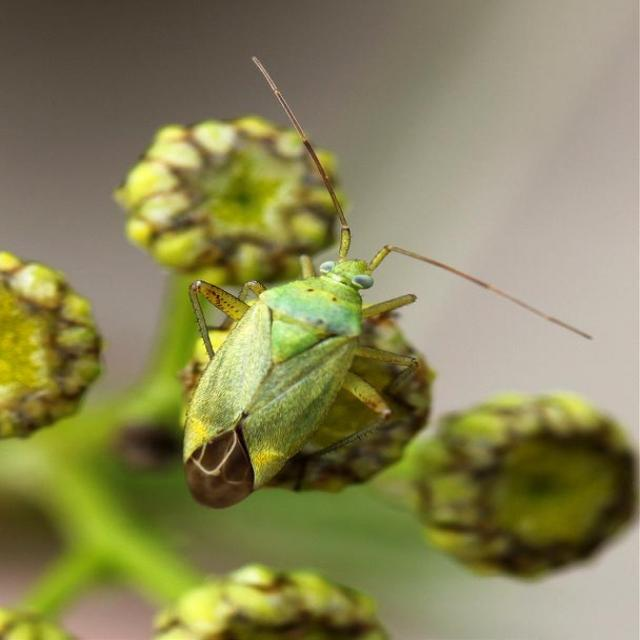Miridae-Adult-: (143, 42, 571, 520)
